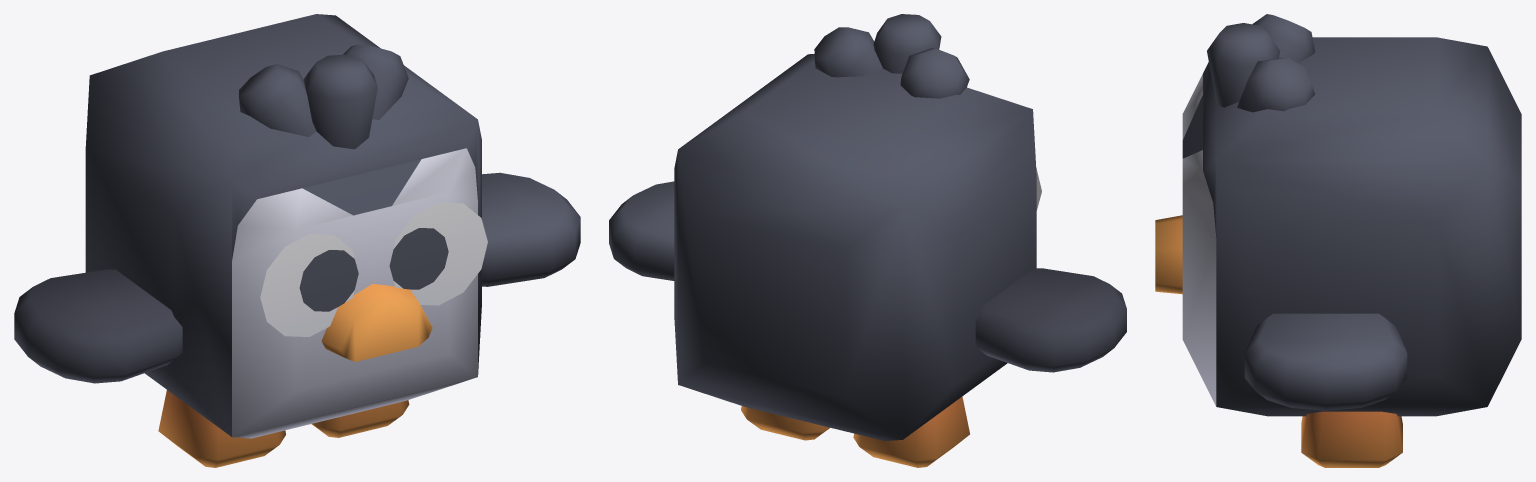
The model's file is animal-penguin.obj.
3 views of the same model, side by side, from view 1: azimuth 30°, elevation 25°; view 2: azimuth 150°, elevation 25°; view 3: azimuth 270°, elevation 25° (orthographic). The views are drawn at different scales.
Visible parts, largest first — view 1: body, wing-right, wing-left, leg-front-right, leg-front-left; view 2: body, wing-right, wing-left, leg-front-right, leg-front-left; view 3: body, wing-left, leg-front-left.
Part boxes in pixels (x1,y1,x2,y2): body: [85, 14, 487, 438]; wing-right: [14, 269, 182, 383]; wing-left: [481, 172, 580, 286]; leg-front-right: [158, 390, 285, 467]; leg-front-left: [311, 400, 409, 437]; body: [674, 14, 1041, 440]; wing-right: [975, 268, 1126, 372]; wing-left: [609, 181, 674, 280]; leg-front-right: [853, 396, 969, 467]; leg-front-left: [741, 406, 829, 440]; body: [1155, 14, 1521, 416]; wing-left: [1244, 313, 1407, 410]; leg-front-left: [1301, 411, 1402, 467].
Bounding box in the file's own units: 2.19 × 1.59 × 1.35.
